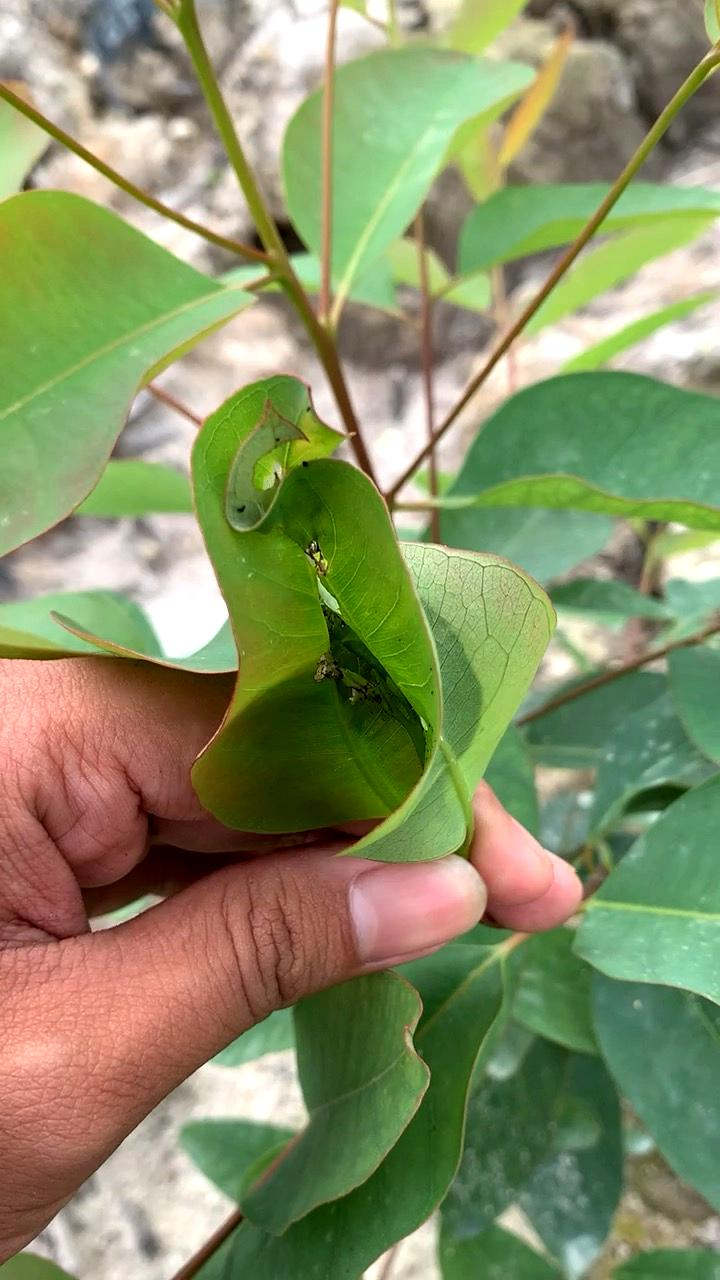Leaf Roller - Leaf: (165, 360, 570, 894)
